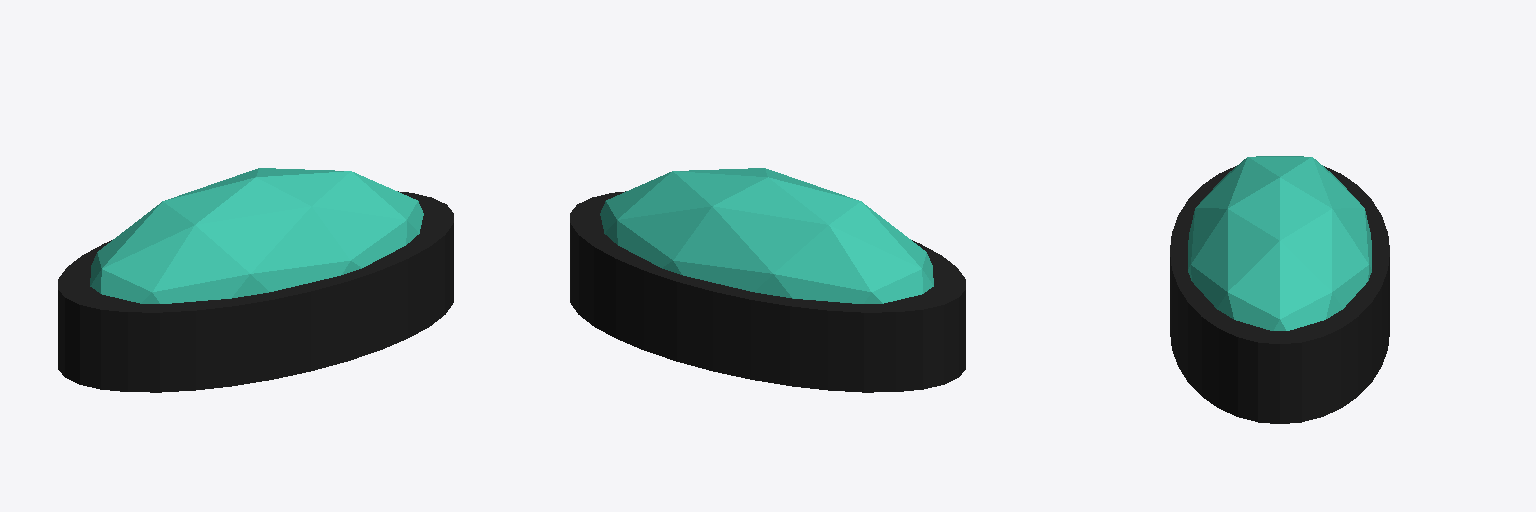
The model's file is sleeping_pod.obj.
3 renders of one model, left to right at view 1: azimuth 30°, elevation 25°; view 2: azimuth 150°, elevation 25°; view 3: azimuth 270°, elevation 25°, orthographic.
Visible parts, largest first — view 1: Cylinder, Icosphere; view 2: Cylinder, Icosphere; view 3: Icosphere, Cylinder.
Boxes of the visible parts, <box> form: Cylinder: <box>58,191,453,392</box>; Icosphere: <box>90,168,423,303</box>; Cylinder: <box>570,191,965,392</box>; Icosphere: <box>600,168,933,303</box>; Icosphere: <box>1188,156,1371,330</box>; Cylinder: <box>1170,166,1389,423</box>.
Bounding box in the file's own units: 4 × 1.58 × 2.